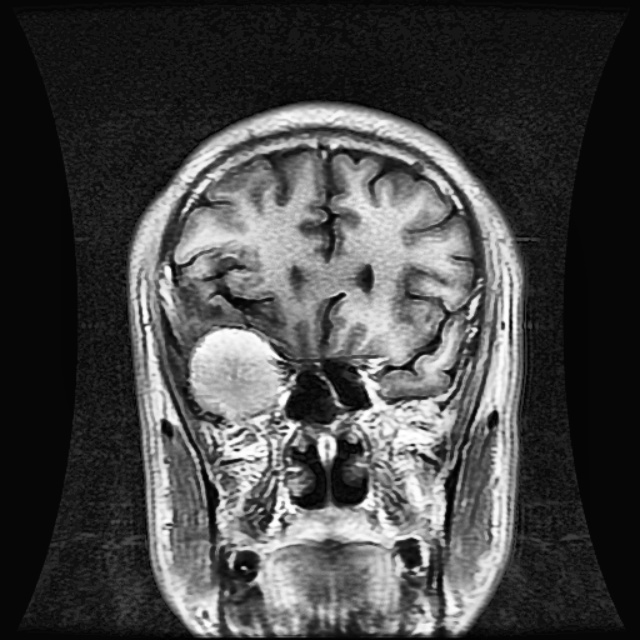Glioma: (189, 328, 279, 419)
